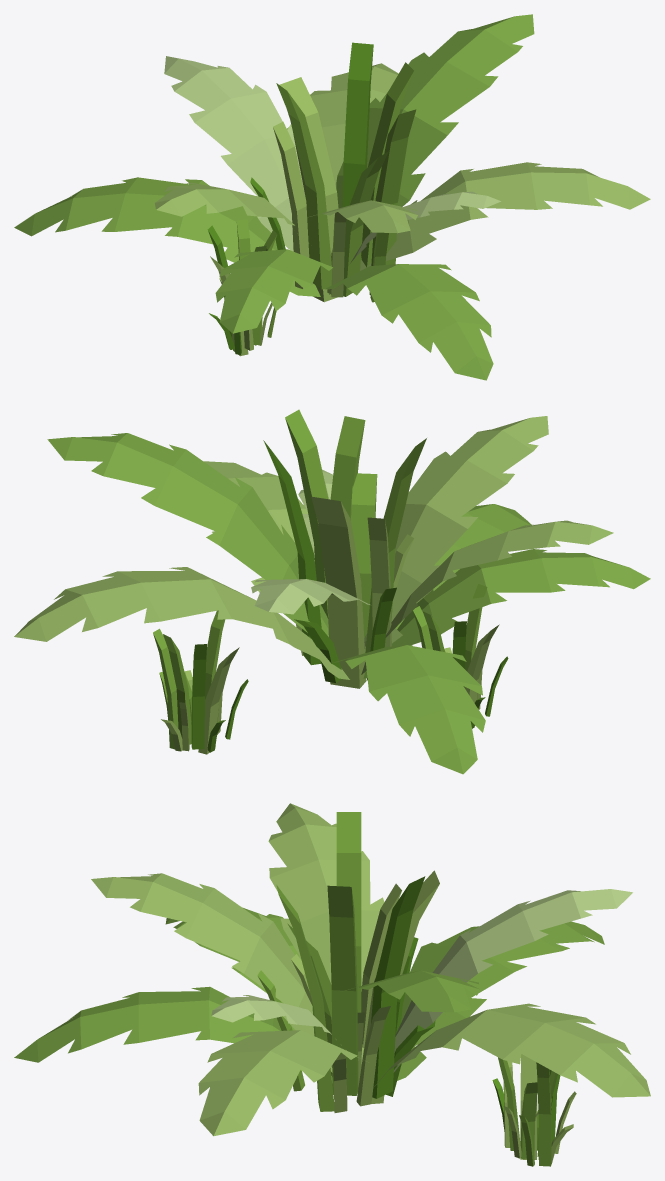
File: GrassSet1.glb
3 views of the same model, one above another, from view 1: azimuth 30°, elevation 25°; view 2: azimuth 150°, elevation 25°; view 3: azimuth 270°, elevation 25° (orthographic). The views are drawn at different scales.
Parts seen in each view (by area): view 1: Plane_006, Bust_1, Bust_1__1_; view 2: Plane_006, Bust_1, Bust_1__2_, Bust_1__1_; view 3: Plane_006, Bust_1, Bust_1__2_.
Part boxes in pixels (x1=…): Plane_006: x1=14, y1=14, x2=650, y2=380; Bust_1: x1=250, y1=42, x2=416, y2=302; Bust_1__1_: x1=208, y1=219, x2=277, y2=356; Plane_006: x1=14, y1=416, x2=650, y2=774; Bust_1: x1=263, y1=409, x2=426, y2=688; Bust_1__2_: x1=153, y1=610, x2=248, y2=754; Bust_1__1_: x1=413, y1=584, x2=508, y2=728; Plane_006: x1=14, y1=803, x2=650, y2=1136; Bust_1: x1=257, y1=812, x2=439, y2=1112; Bust_1__2_: x1=492, y1=1054, x2=576, y2=1166.
Size of the model in its own units: 2.09 by 1.11 by 2.26.
Materials: 1 (1 with a texture image).
